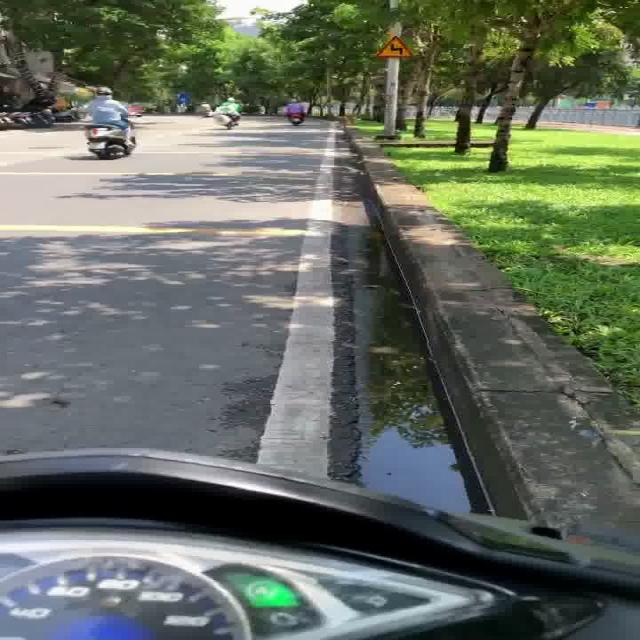Bien bao nhieu cho ngoat nguy hiem lien tiep: (371, 34, 422, 62)
